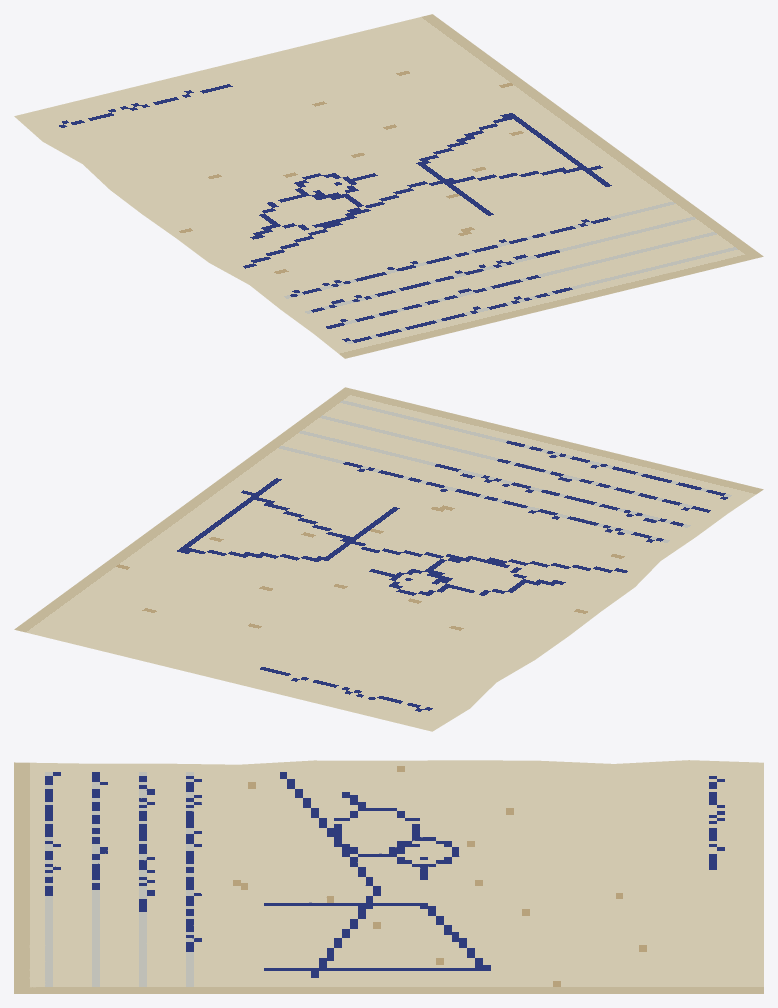
File: m_page_grey_bird.glb
The picture shows the model from 3 angles, top to bottom: view 1: azimuth 30°, elevation 25°; view 2: azimuth 150°, elevation 25°; view 3: azimuth 270°, elevation 25°; orthographic projection. The views are drawn at different scales.
Parts seen in each view (by area): view 1: Page_grey_bird; view 2: Page_grey_bird; view 3: Page_grey_bird.
Part boxes in pixels (<box>): Page_grey_bird: <box>14,14,763,358</box>; Page_grey_bird: <box>14,387,763,731</box>; Page_grey_bird: <box>14,760,763,993</box>.
Size of the model in its own units: 0.1475 by 0 by 0.2.
1 material, 1 textured.
